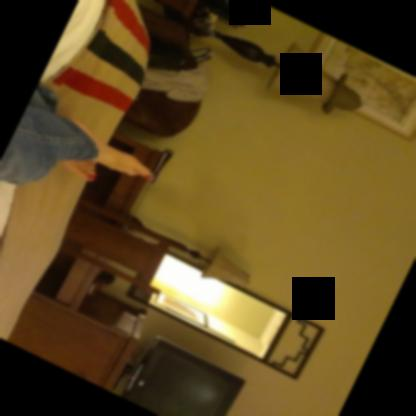handbag: (145, 36, 213, 75)
